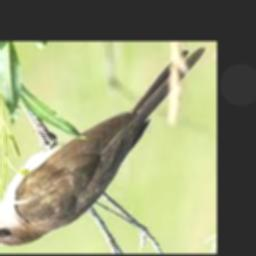Cuckoo: (0, 47, 206, 246)
